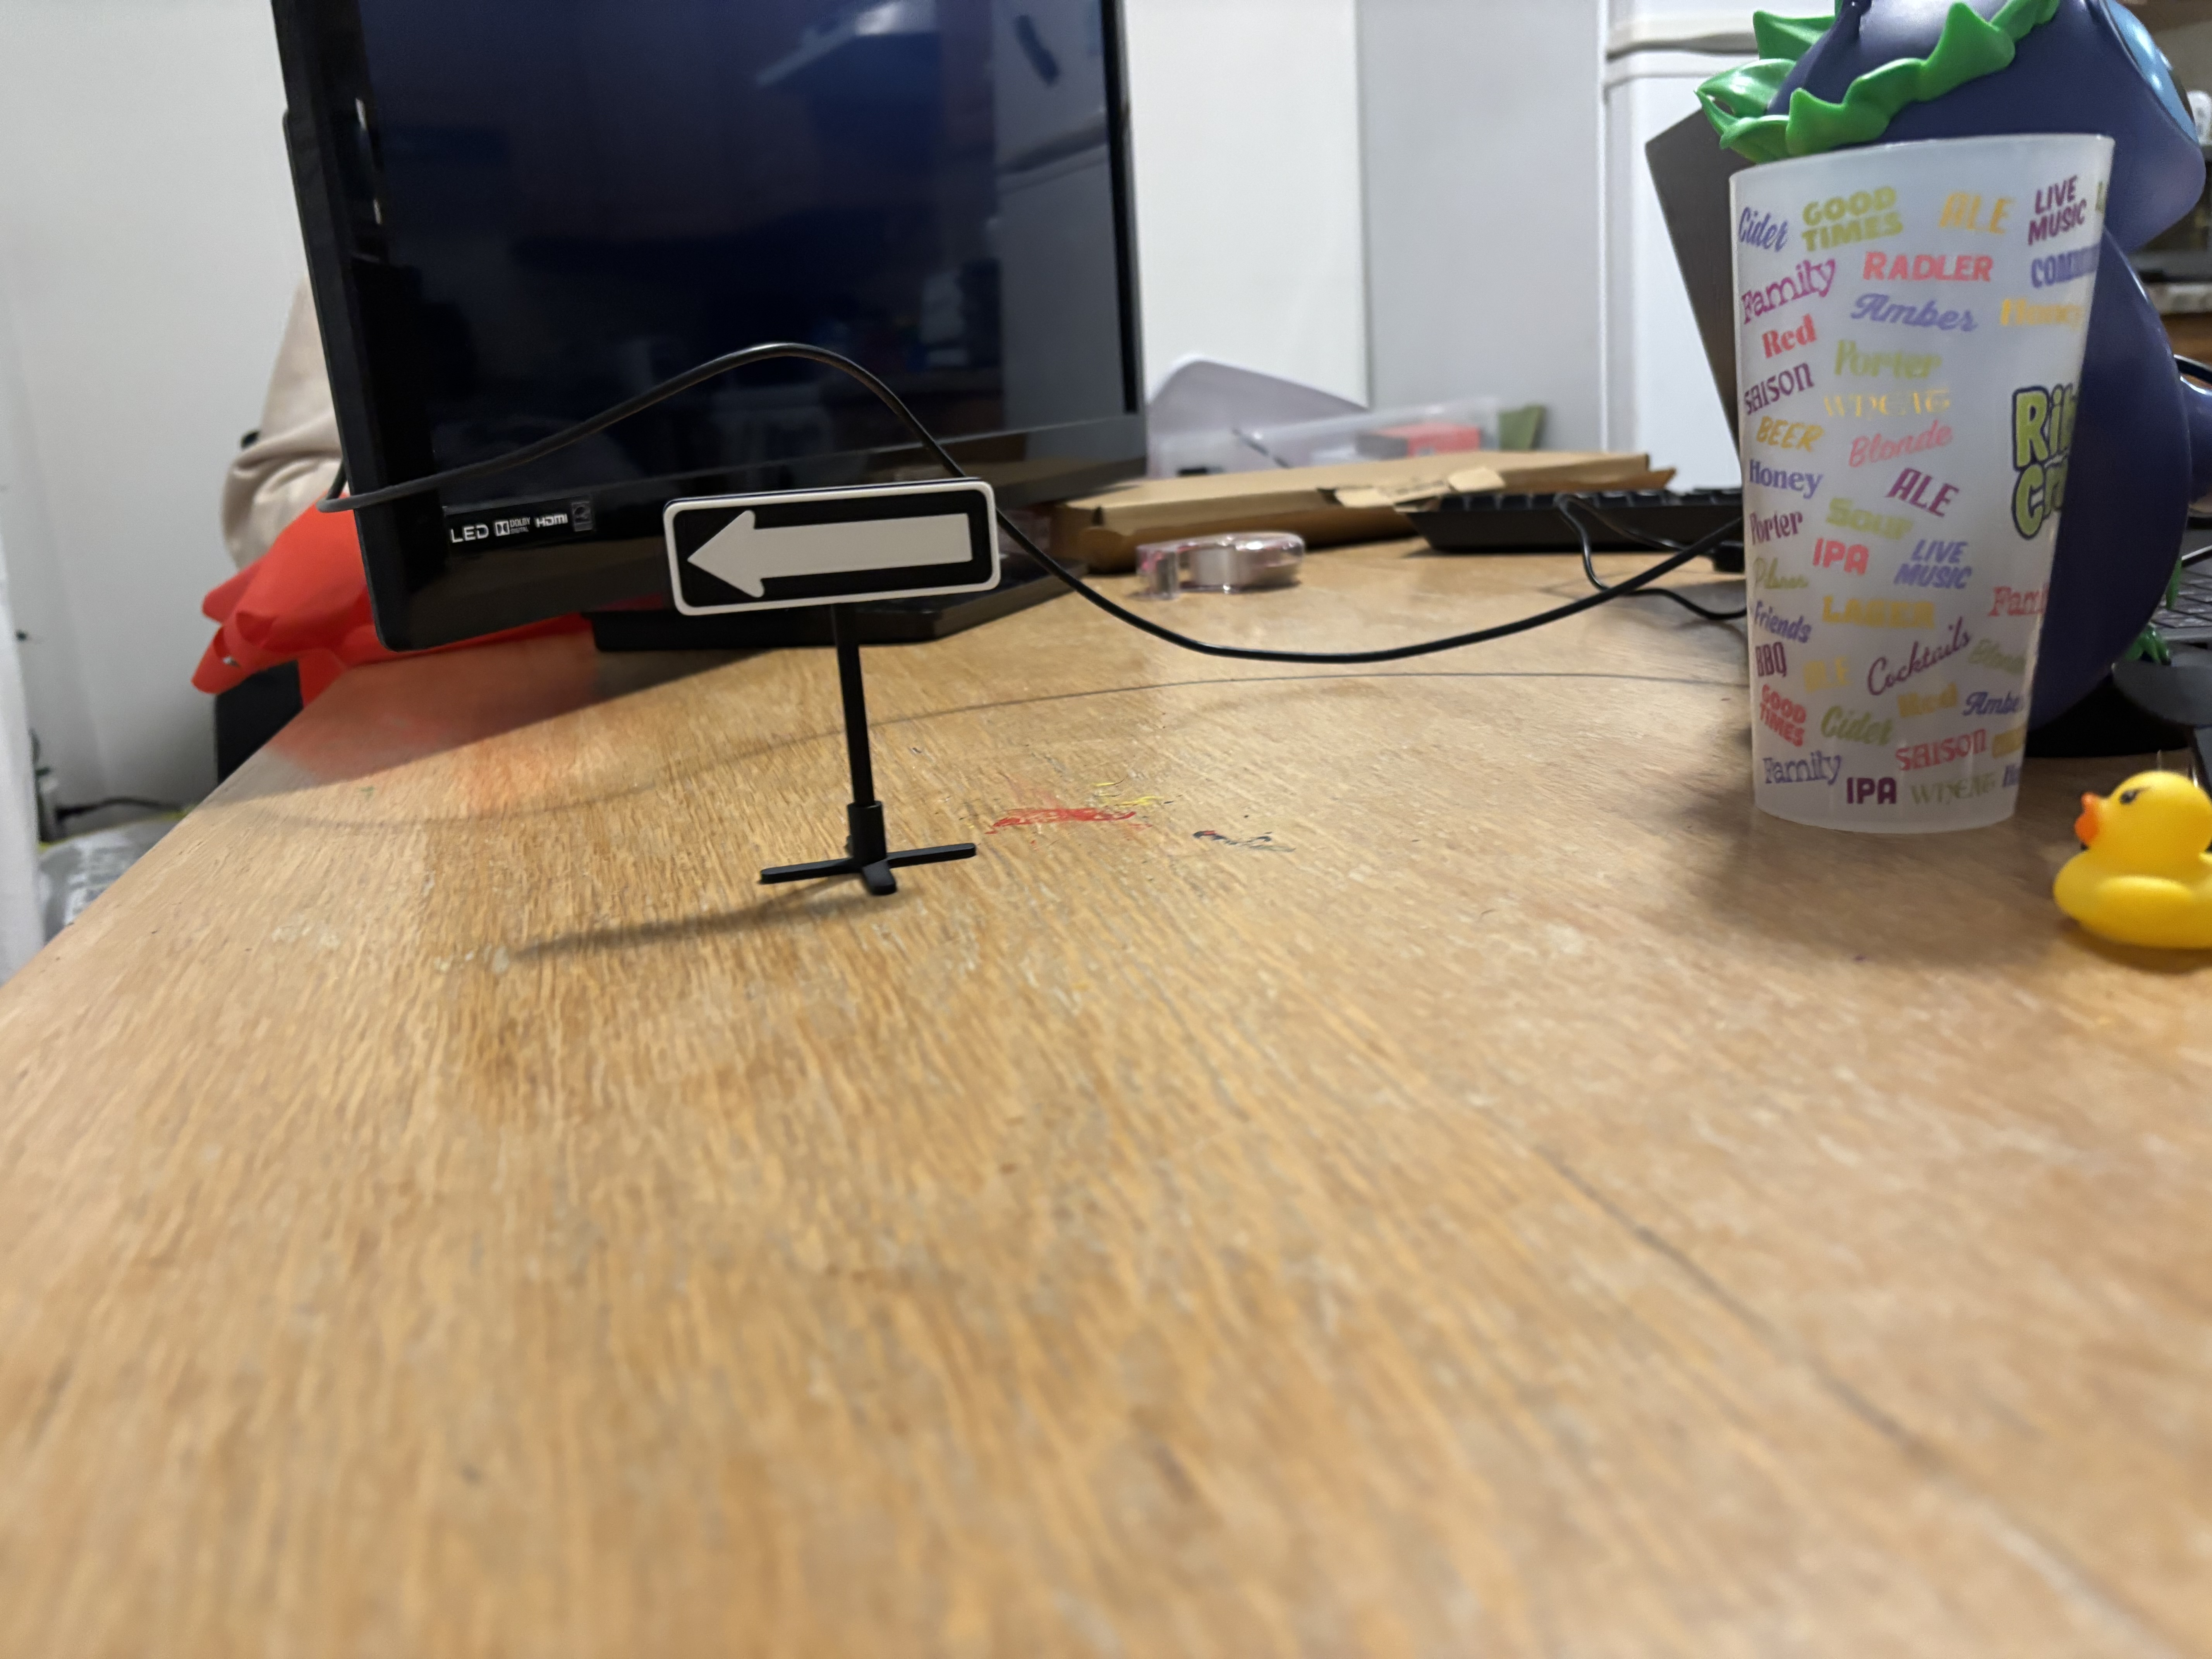sign_oneway_left: (648, 486, 1010, 599)
